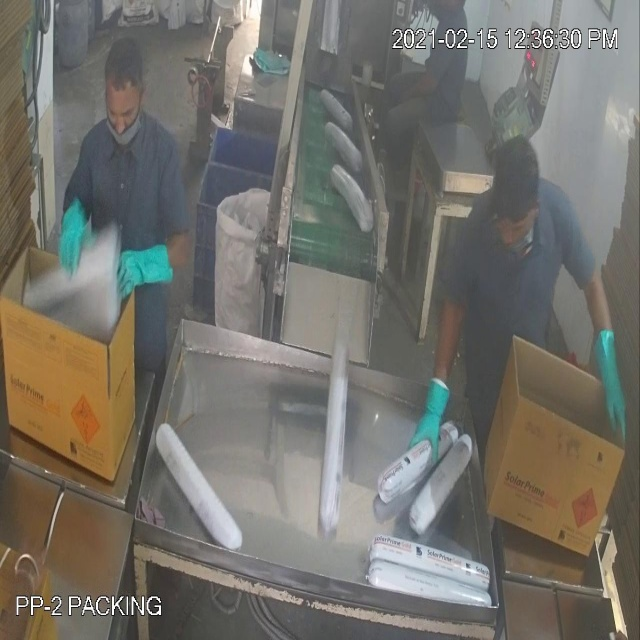Guantes: (585, 313, 637, 448), (110, 229, 183, 308), (413, 366, 459, 471)
